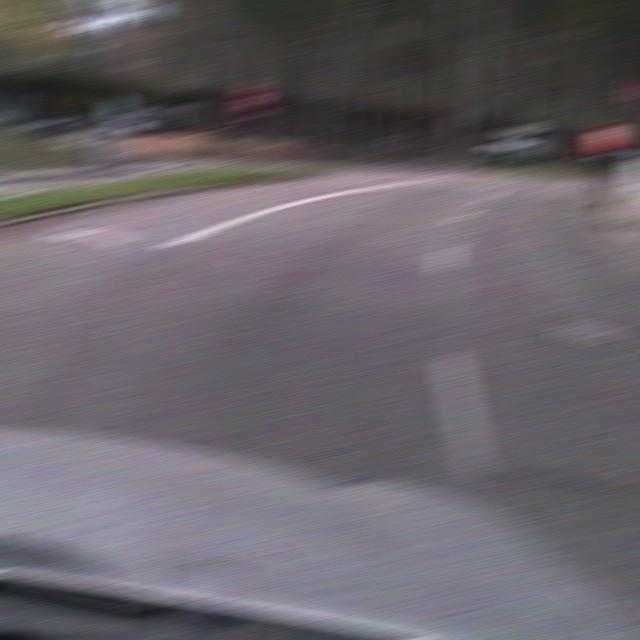stop: (232, 85, 268, 118)
